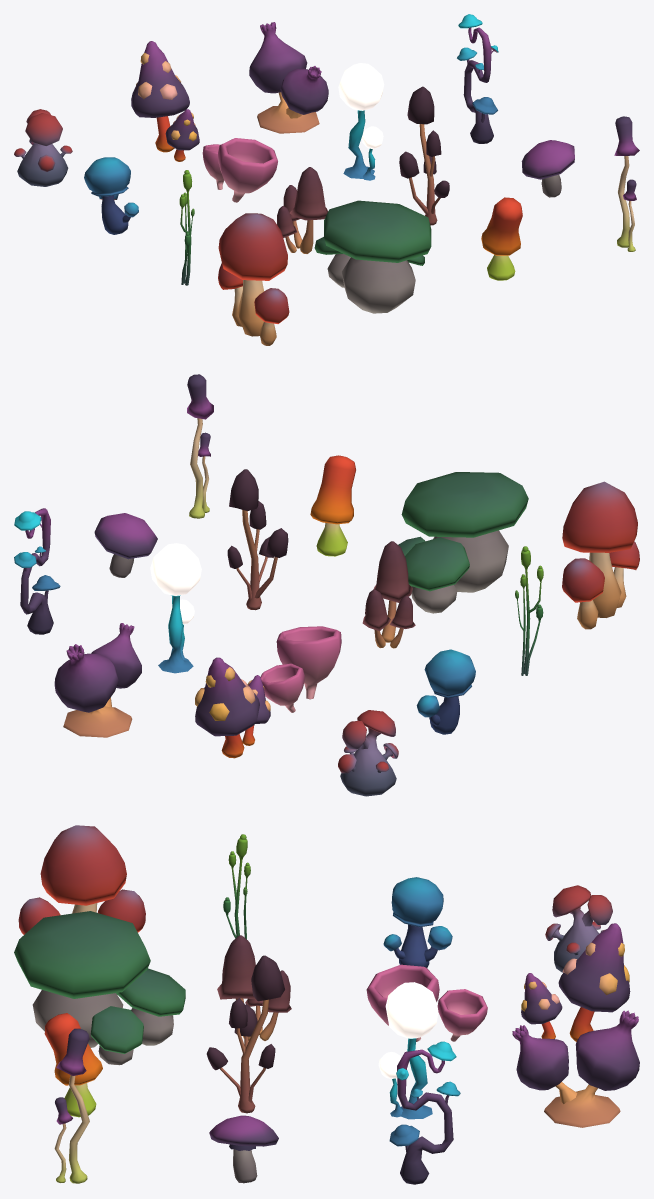
The model's file is Mushrooms_Pack_01.fbx.
3 renders of one model, top to bottom at view 1: azimuth 30°, elevation 25°; view 2: azimuth 150°, elevation 25°; view 3: azimuth 270°, elevation 25°, orthographic. The views are drawn at different scales.
Visible parts, largest first — view 1: Mushroom.002, Mushroom.022, Mushroom, Mushroom.021, Mushroom.019, Mushroom.009, Mushroom.013, Mushroom.017, Mushroom.012, Mushroom.018, Mushroom.003, Mushroom.011 (+10 smaller); view 2: Mushroom.002, Mushroom.022, Mushroom, Mushroom.021, Mushroom.019, Cylinder.006, Mushroom.009, Mushroom.017, Mushroom.012, Mushroom.003, Mushroom.018, Mushroom.013 (+10 smaller); view 3: Mushroom.002, Mushroom.022, Mushroom, Mushroom.021, Mushroom.009, Mushroom.018, Mushroom.012, Mushroom.017, Mushroom.019, Cylinder.006, Mushroom.011, Mushroom.003 (+12 smaller).
Part boxes in pixels (<box>): Mushroom.002: <box>324,200,431,313</box>; Mushroom.022: <box>249,22,328,133</box>; Mushroom: <box>218,213,287,336</box>; Mushroom.021: <box>131,41,189,152</box>; Mushroom.019: <box>14,109,72,186</box>; Mushroom.009: <box>399,86,449,225</box>; Mushroom.013: <box>218,138,277,202</box>; Mushroom.017: <box>338,63,384,178</box>; Mushroom.012: <box>84,157,138,234</box>; Mushroom.018: <box>457,14,498,143</box>; Mushroom.003: <box>481,197,522,280</box>; Mushroom.011: <box>521,140,574,197</box>; Mushroom.002: <box>401,472,528,592</box>; Mushroom.022: <box>54,623,141,737</box>; Mushroom: <box>562,481,637,617</box>; Mushroom.021: <box>195,657,259,758</box>; Mushroom.019: <box>338,710,398,796</box>; Cylinder.006: <box>405,537,469,613</box>; Mushroom.009: <box>227,469,288,610</box>; Mushroom.017: <box>150,543,201,673</box>; Mushroom.012: <box>416,649,475,734</box>; Mushroom.003: <box>310,455,355,556</box>; Mushroom.018: <box>14,508,60,634</box>; Mushroom.013: <box>276,626,341,699</box>; Mushroom.002: <box>14,911,150,1047</box>; Mushroom.022: <box>512,1010,639,1127</box>; Mushroom: <box>40,825,126,913</box>; Mushroom.021: <box>558,923,630,1041</box>; Mushroom.009: <box>206,955,284,1113</box>; Mushroom.018: <box>389,1041,460,1184</box>; Mushroom.012: <box>383,877,452,967</box>; Mushroom.017: <box>385,982,438,1119</box>; Mushroom.019: <box>545,885,612,972</box>; Cylinder.006: <box>116,968,185,1045</box>; Mushroom.011: <box>209,1115,278,1183</box>; Mushroom.003: <box>44,1013,102,1117</box>.
Bounding box in the file's own units: 2607 × 796 × 2859.
